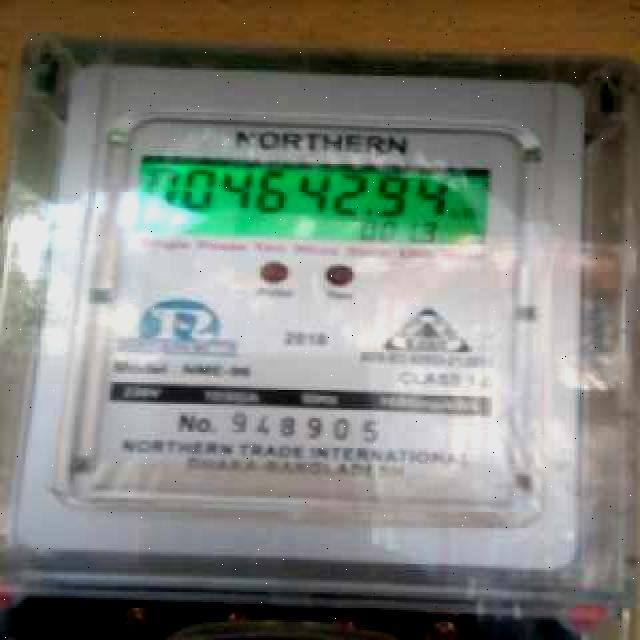LCD: (132, 148, 494, 259)
